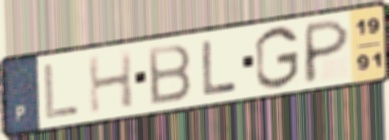B: (145, 41, 194, 107)
G: (252, 24, 301, 92)
H: (85, 49, 136, 117)
L: (199, 37, 240, 98), (42, 61, 82, 121)
P: (300, 16, 353, 86)
